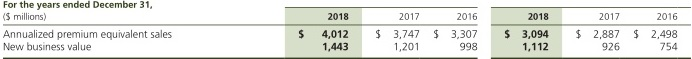column: (2, 1, 174, 59), (320, 1, 350, 59), (450, 1, 479, 59), (521, 1, 550, 59), (650, 1, 679, 59), (592, 1, 620, 59), (393, 1, 420, 59), (502, 1, 511, 59), (297, 1, 305, 59), (374, 1, 382, 59), (574, 1, 582, 59), (432, 1, 439, 59), (633, 1, 638, 59)
row: (1, 27, 692, 40), (1, 11, 692, 21), (1, 42, 692, 52), (1, 1, 692, 10)
